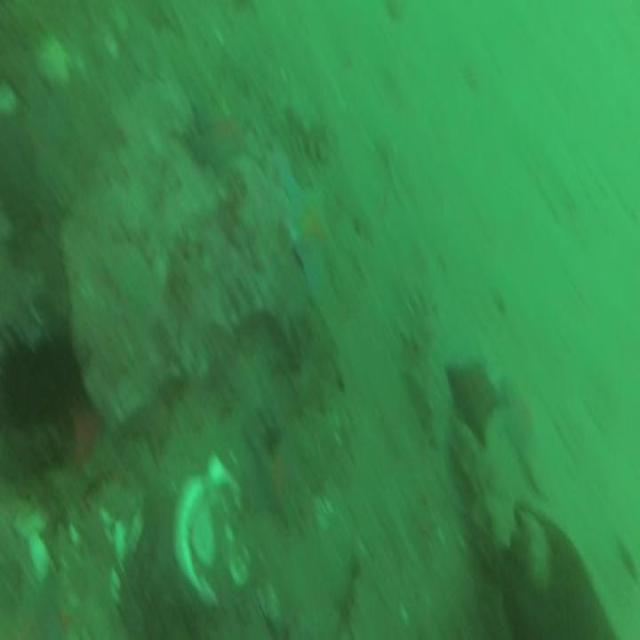echinus: (0, 338, 58, 427)
holothurian: (402, 284, 445, 442), (60, 446, 113, 523)
scallop: (173, 458, 251, 602)
starfish: (281, 172, 331, 286), (243, 424, 297, 522), (444, 354, 501, 444), (186, 98, 248, 169)
